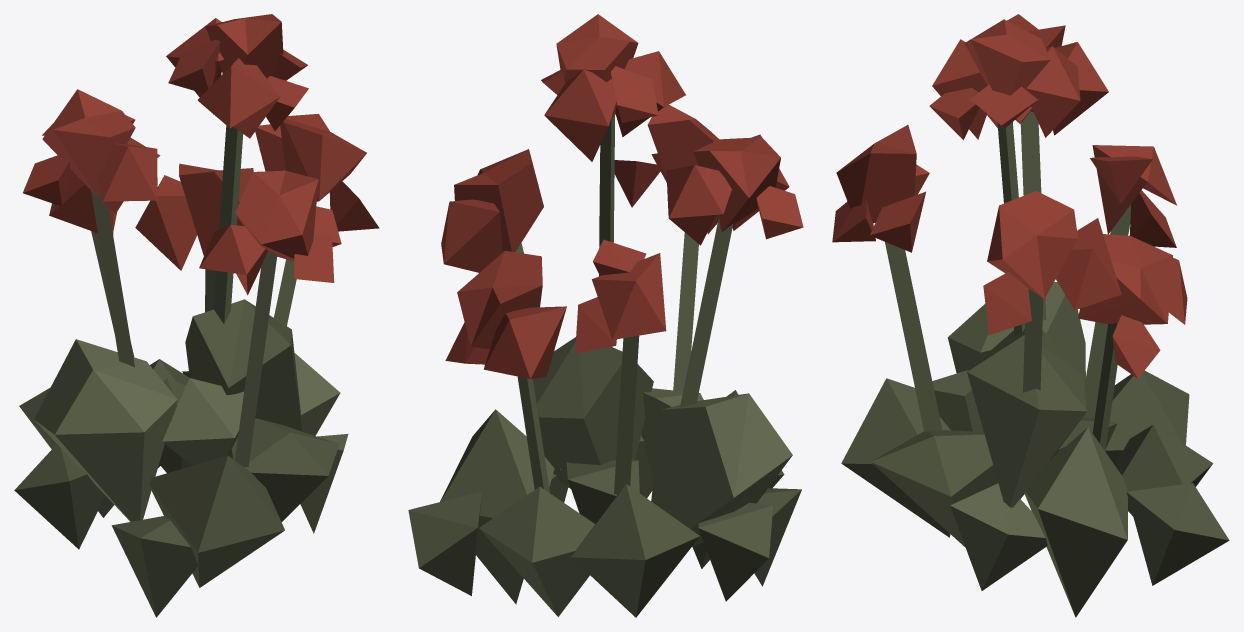
The model's file is SM_Gen_Env_Flowers_05.obj.
3 views of the same model, side by side, from view 1: azimuth 30°, elevation 25°; view 2: azimuth 150°, elevation 25°; view 3: azimuth 270°, elevation 25° (orthographic).
Visible parts, largest first — view 1: SM_Gen_Env_Flowers_05_0; view 2: SM_Gen_Env_Flowers_05_0; view 3: SM_Gen_Env_Flowers_05_0.
Part boxes in pixels (x1=…): SM_Gen_Env_Flowers_05_0: x1=14, y1=14, x2=379, y2=617; SM_Gen_Env_Flowers_05_0: x1=408, y1=14, x2=803, y2=617; SM_Gen_Env_Flowers_05_0: x1=832, y1=14, x2=1229, y2=617.
Size of the model in its own units: 0.639 by 1 by 0.6399.
Materials: 1 (1 with a texture image).
